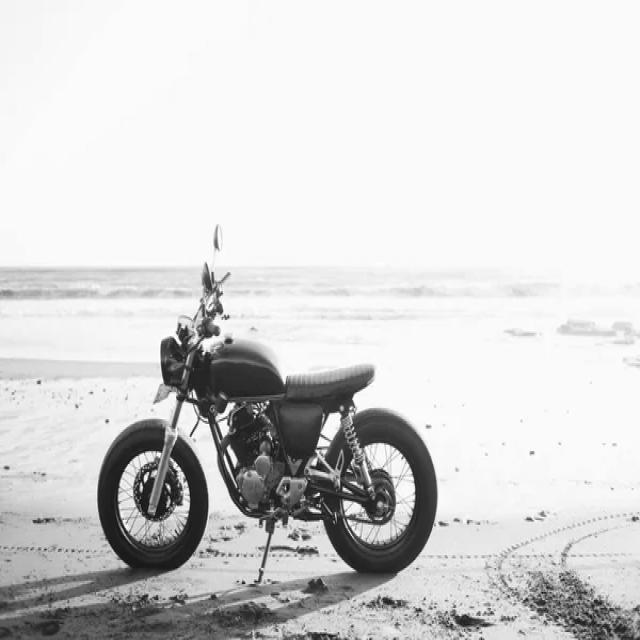Motorcycle: (98, 266, 435, 571)
